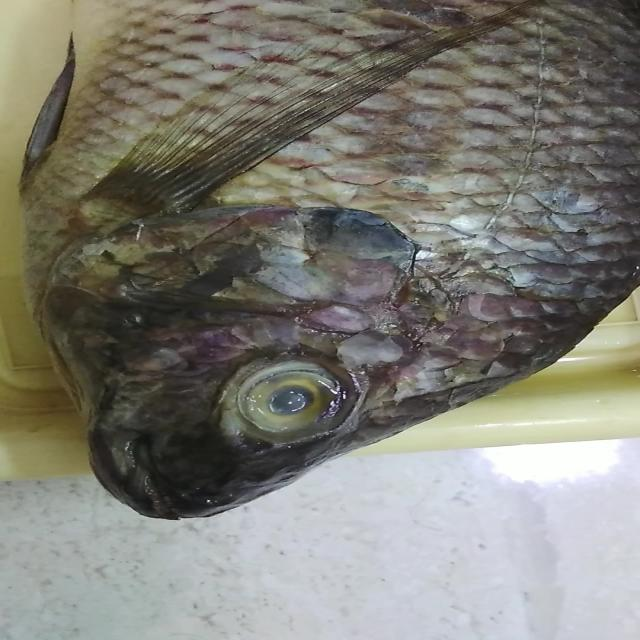Non-Fresh: (105, 21, 545, 345), (223, 360, 344, 438)
